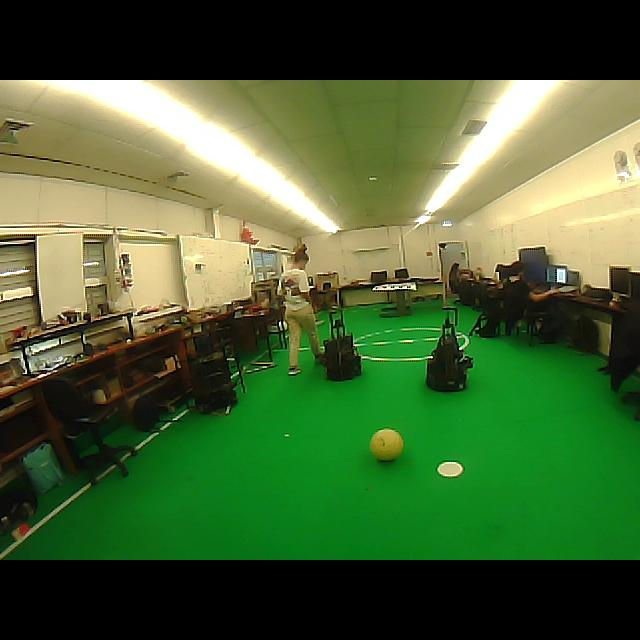ball: (370, 429, 404, 461)
robot: (426, 306, 472, 391), (190, 352, 238, 413), (324, 308, 361, 381)
